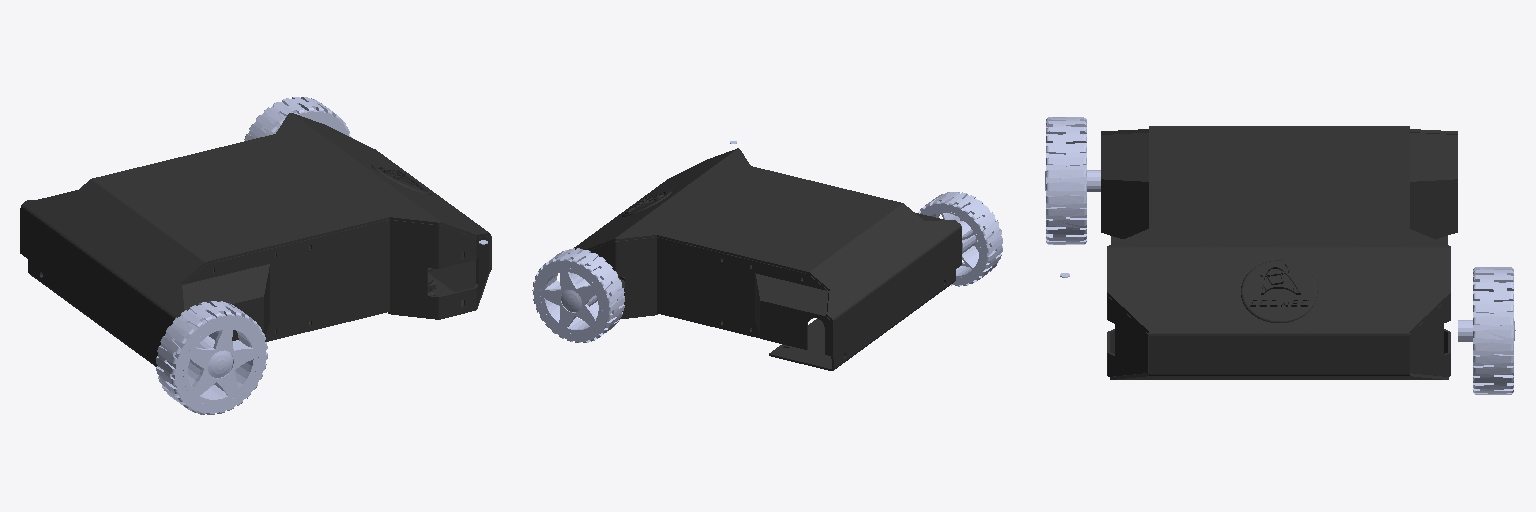
The robot description file, URDF, robot "neor_mini":
<?xml version="1.0" encoding="utf-8"?>
<!-- This URDF was automatically created by SolidWorks to URDF Exporter! Originally created by [author] ([email redacted]) 
     Commit Version: 1.5.1-0-g916b5db  Build Version: 1.5.7152.31018
     For more information, please see http://wiki.ros.org/sw_urdf_exporter -->
<robot name="neor_mini">

  <!-- Add Gazebo plugins -->
    <!-- Load ros_control plugin using the steer_bot_hardware_gazebo
    implementation of the hardware_interface::RobotHW -->

  <gazebo>
    <plugin name="gazebo_ros_control" filename="libgazebo_ros_control.so">
      <robotSimType>steer_bot_hardware_gazebo/SteerBotHardwareGazebo</robotSimType>
      <legacyModeNS>false</legacyModeNS>
    </plugin>
  </gazebo>

       <link name="base_link">
    <!-- avoid root link inertia warnings, annotation -->
    <inertial>
      <origin
        xyz="0.030649671440691 -1.79069899872708E-05 0.0558717976709459"
        rpy="0 0 0" />
      <mass
        value="1.72617713171385" />
      <inertia
        ixx="0.0107311274569357"
        ixy="-3.24164649120244E-08"
        ixz="0.00169188715816868"
        iyy="0.0198871551919603"
        iyz="2.40252669081509E-07"
        izz="0.0269841937242323" />
    </inertial>

    <visual>
      <origin xyz="0 0 0" rpy="0 0 0" />
      <geometry>
        <mesh filename="package://neor_mini/meshes/base_link.dae" />
      </geometry>
      <material name="">
      <color rgba="0.250980392156863 0.250980392156863 0.250980392156863 1" /> 
      </material> 
    </visual>
    <collision>
      <origin
        xyz="0 0 0"
        rpy="0 0 0" />
      <geometry>
        <mesh
          filename="package://neor_mini/meshes/base_link.STL" />
      </geometry>
    </collision>
  </link>
  <link
    name="rear_wheel_link">
    <inertial>
      <origin
        xyz="-8.88178419700125E-16 -2.05391259555654E-14 -0.00112500000001892"
        rpy="0 0 0" />
      <mass
        value="5.65486677646169E-05" />
      <inertia
        ixx="1.32005796313028E-10"
        ixy="-1.938704560671E-27"
        ixz="2.13770572261755E-26"
        iyy="1.32005796313028E-10"
        iyz="-7.60216295195271E-25"
        izz="2.03575203952622E-10" />
    </inertial>
    <visual>
      <origin
        xyz="0 0 0"
        rpy="0 0 0" />
      <geometry>
        <mesh
          filename="package://neor_mini/meshes/rear_wheel_link.STL" />
      </geometry>
      <material
        name="">
        <color
          rgba="0.274509803921569 1 0.247058823529412 1" />
      </material>
    </visual>
    <collision>
      <origin
        xyz="0 0 0"
        rpy="0 0 0" />
      <geometry>
        <mesh
          filename="package://neor_mini/meshes/rear_wheel_link.STL" />
      </geometry>
    </collision>
  </link>
  <joint
    name="rear_wheel_joint"
    type="continuous">
    <origin
      xyz="-0.181499999999597 0 0.0399999999987674"
      rpy="0 0 0" />
    <parent
      link="base_link" />
    <child
      link="rear_wheel_link" />
    <axis
      xyz="0 1 0" />
  </joint>
  <link
    name="left_rear_link">
    <inertial>
      <origin
        xyz="7.85229659072684E-11 -0.0196762547002777 4.85059770127805E-11"
        rpy="0 0 0" />
      <mass
        value="0.29556182905038" />
      <inertia
        ixx="0.000374087423652291"
        ixy="2.19336154342606E-13"
        ixz="-5.50404301757561E-12"
        iyy="0.000661017199375587"
        iyz="-5.10049385981967E-14"
        izz="0.000374087441459994" />
    </inertial>
    <visual>
      <origin
        xyz="0 0 0"
        rpy="0 0 0" />
      <geometry>
        <mesh
          filename="package://neor_mini/meshes/left_rear_link.STL" />
      </geometry>
      <material
        name="">
        <color
          rgba="0.792156862745098 0.819607843137255 0.933333333333333 1" />
      </material>
    </visual>
    <collision>
      <origin
        xyz="0 0 0"
        rpy="0 0 0" />
      <geometry>
        <mesh
          filename="package://neor_mini/meshes/left_rear_link.STL" />
      </geometry>
    </collision>
  </link>
  <joint
    name="left_rear_joint"
    type="continuous">
    <origin
      xyz="-0.181499999999595 0.228542434993694 0.0399999999991634"
      rpy="0 0 0" />
    <parent
      link="base_link" />
    <child
      link="left_rear_link" />
    <axis
      xyz="0 1 0" />
    <limit
      lower="-3.14"
      upper="3.14"
      effort="0"
      velocity="0" />
  </joint>
  <link
    name="right_rear_link">
    <inertial>
      <origin
        xyz="7.8521189550429E-11 0.0196762545376323 3.35983463273237E-11"
        rpy="0 0 0" />
      <mass
        value="0.295561829050389" />
      <inertia
        ixx="0.000374087423652306"
        ixy="-2.1933774523493E-13"
        ixz="5.50404145624456E-12"
        iyy="0.000661017199375601"
        iyz="-5.10073974604221E-14"
        izz="0.000374087441459995" />
    </inertial>
    <visual>
      <origin
        xyz="0 0 0"
        rpy="0 0 0" />
      <geometry>
        <mesh
          filename="package://neor_mini/meshes/right_rear_link.STL" />
      </geometry>
      <material
        name="">
        <color
          rgba="0.792156862745098 0.819607843137255 0.933333333333333 1" />
      </material>
    </visual>
    <collision>
      <origin
        xyz="0 0 0"
        rpy="0 0 0" />
      <geometry>
        <mesh
          filename="package://neor_mini/meshes/right_rear_link.STL" />
      </geometry>
    </collision>
  </link>
  <joint
    name="right_rear_joint"
    type="continuous">
    <origin
      xyz="-0.181499999999595 -0.228542434994426 0.0399999999991584"
      rpy="0 0 0" />
    <parent
      link="base_link" />
    <child
      link="right_rear_link" />
    <axis
      xyz="0 1 0" />
    <limit
      lower="-3.14"
      upper="3.14"
      effort="0"
      velocity="0" />
  </joint>
  <link
    name="front_steer_link">
    <inertial>
      <origin
        xyz="-2.1316282072803E-14 3.67778030252452E-11 -0.00112486602459905"
        rpy="0 0 0" />
      <mass
        value="5.65486677646163E-05" />
      <inertia
        ixx="1.32005796313026E-10"
        ixy="1.16322273640277E-26"
        ixz="1.20446157864484E-28"
        iyy="1.32005796313026E-10"
        iyz="-8.66481261175625E-27"
        izz="2.03575203952619E-10" />
    </inertial>
    <visual>
      <origin
        xyz="0 0 0"
        rpy="0 0 0" />
      <geometry>
        <mesh
          filename="package://neor_mini/meshes/front_steer_link.STL" />
      </geometry>
      <material
        name="">
        <color
          rgba="0.274509803921569 1 0.247058823529412 1" />
      </material>
    </visual>
    <collision>
      <origin
        xyz="0 0 0"
        rpy="0 0 0" />
      <geometry>
        <mesh
          filename="package://neor_mini/meshes/front_steer_link.STL" />
      </geometry>
    </collision>
  </link>
  <joint
    name="front_steer_joint"
    type="revolute">
    <origin
      xyz="0.172883370897628 0 -0.00376561854722868"
      rpy="0 0 0" />
    <parent
      link="base_link" />
    <child
      link="front_steer_link" />
    <axis
      xyz="0 0 1" />
    <limit
      lower="-0.72"
      upper="0.72"
      effort="0"
      velocity="0" />
  </joint>

<!-- In order to fit ackermann simulation plugins's request,amend the front steer link and it's joint -->
 <link name="front_steer_right_link">
 <!--  remember add inertial  label,if not,and it can't visual on gazebo-->
 <inertial>  
      <origin xyz="9.44636555644252E-08 -0.000295273745285485 -8.13046296954667E-11" rpy="0 0 0" />
      <mass value="0.296315811300368" /> 
      <inertia
        ixx="0.000374692013709393"
        ixy="-9.17172260383823E-08"
        ixz="-2.43187512356516E-12"
        iyy="0.000661029987747155"
        iyz="1.9736939507106E-13"
        izz="0.000374691963930348" />
    </inertial>
   <visual>
     <geometry>
       <cylinder length="0.001" radius="0.005"/>
     </geometry>
     <origin rpy="0 0 0"  xyz="0 0 0" />
     <material name=""> 
          <color rgba="0.792156862745098 0.819607843137255 0.933333333333333 1" />
     </material>
   </visual>
   <collision>
      <origin
        xyz="0 0 0"
        rpy="0 0 0" />
      <geometry>
       <cylinder length="0.001" radius="0.005"/>
      </geometry>
    </collision>
 </link>
 <joint name="front_steer_right_joint" type="revolute">
    <origin rpy="0 0 0"  xyz="0.17 -0.21 0.102" />
    <parent link="base_link" />
    <child link="front_steer_right_link" />
    <axis xyz="0 0 1" />     <!-- charge steer direction default is 0 0 1-->
    <limit lower="-0.69" upper="0.69" effort="0" velocity="0" />
 </joint>
<!-- ************************************************************************************* -->

  <link
    name="front_right_wheel_link">
    <inertial>
      <origin
        xyz="9.44636555644252E-08 -0.000295273745285485 -8.13046296954667E-11"
        rpy="0 0 0" />
      <mass
        value="0.296315811300368" />
      <inertia
        ixx="0.000374692013709393"
        ixy="-9.17172260383823E-08"
        ixz="-2.43187512356516E-12"
        iyy="0.000661029987747155"
        iyz="1.9736939507106E-13"
        izz="0.000374691963930348" />
    </inertial>
    <visual>
      <origin
        xyz="0 0 0"
        rpy="0 0 0" />
      <geometry>
        <mesh
          filename="package://neor_mini/meshes/front_right_wheel_link.STL" />
      </geometry>
      <material
        name="">
        <color
          rgba="0.792156862745098 0.819607843137255 0.933333333333333 1" />
      </material>
    </visual>
    <collision>
      <origin
        xyz="0 0 0"
        rpy="0 0 0" />
      <geometry>
        <mesh
          filename="package://neor_mini/meshes/front_right_wheel_link.STL" />
      </geometry>
    </collision>
  </link>
  <joint name="front_right_wheel_joint" type="continuous">
    <origin xyz="0 0 -0.06" rpy="0 0 0" />   <!-- amend the position between steer_right_link and front right wheel-->
    <parent link="front_steer_right_link" />
    <child  link="front_right_wheel_link" />
    <axis xyz="0 1 0" />
  </joint>

<!-- In order to fit ackermann simulation plugins's request,amend the front steer link and it's joint -->
 <link name="front_steer_left_link">
 <!--  remember add inertial  label,if not,and it can't visual on gazebo-->
    <inertial> 
      <origin xyz="9.44636555644252E-08 -0.000295273745285485 -8.13046296954667E-11" rpy="0 0 0" />
      <mass value="0.296315811300368" /> 
      <inertia
        ixx="0.000374692013709393"
        ixy="-9.17172260383823E-08"
        ixz="-2.43187512356516E-12"
        iyy="0.000661029987747155"
        iyz="1.9736939507106E-13"
        izz="0.000374691963930348" />
    </inertial>
   <visual>
     <geometry>
       <cylinder length="0.001" radius="0.005"/>
     </geometry>
     <origin rpy="0 0 0"  xyz="0 0 0" />
   </visual>
    <collision>
      <origin xyz="0 0 0" rpy="0 0 0" />
      <geometry>
       <cylinder length="0.001" radius="0.005"/>
      </geometry>
    </collision>
 </link>
 <joint name="front_steer_left_joint" type="revolute">
    <origin rpy="0 0 0"  xyz="0.17 0.21 0.102" />
    <parent link="base_link" />
    <child link="front_steer_left_link" />
    <axis xyz="0 0 1" />  <!-- charge steer direction default is 0 0 1-->
    <limit lower="-0.69" upper="0.69" effort="0" velocity="0" />
 </joint>
<!-- ************************************************************************************* -->

  <link
    name="front_left_wheel_link">
    <inertial>
      <origin
        xyz="-3.99413835339146E-11 0.000295273997845347 1.08602016268833E-10"
        rpy="0 0 0" />
      <mass
        value="0.296315811293944" />
      <inertia
        ixx="0.00037469197851121"
        ixy="-1.84493877596723E-13"
        ixz="-9.50756757097929E-12"
        iyy="0.00066103001709398"
        iyz="-1.17866882205563E-13"
        izz="0.000374691969713977" />
    </inertial>
    <visual>
      <origin
        xyz="0 0 0"
        rpy="0 0 0" />
      <geometry>
        <mesh
          filename="package://neor_mini/meshes/front_left_wheel_link.STL" />
      </geometry>
      <material
        name="">
        <color
          rgba="0.792156862745098 0.819607843137255 0.933333333333333 1" />
      </material>
    </visual>
    <collision>
      <origin
        xyz="0 0 0"
        rpy="0 0 0" />
      <geometry>
        <mesh
          filename="package://neor_mini/meshes/front_left_wheel_link.STL" />
      </geometry>
    </collision>
  </link>
  <joint name="front_left_wheel_joint" type="continuous">
    <origin xyz="0 0 -0.06" rpy="0 0 0" />      <!-- amend the position between steer_left_link and front left wheel-->
    <parent link="front_steer_left_link" />
    <child link="front_left_wheel_link" />
    <axis xyz="0 1 0" /> 
  </joint>


</robot>

--- What the picture shows (computed from the rendered views, not written in the file) ---
3 views of the same robot in one strip: view 1: azimuth 30°, elevation 25°; view 2: azimuth 150°, elevation 25°; view 3: azimuth 270°, elevation 25° (orthographic).
Robot: neor_mini — 9 links, 8 joints (3 revolute, 5 continuous); root link base_link; default pose: every joint at zero.
Visible links, largest first — view 1: base_link, right_rear_link, front_left_wheel_link; view 2: base_link, front_left_wheel_link, right_rear_link; view 3: base_link, front_left_wheel_link, right_rear_link.
Boxes of the visible links, box(x1,y1,x2,y2) form: base_link: box(20, 113, 491, 366); right_rear_link: box(156, 301, 267, 414); front_left_wheel_link: box(244, 97, 351, 140); base_link: box(574, 148, 961, 370); front_left_wheel_link: box(532, 248, 624, 342); right_rear_link: box(918, 192, 1002, 286); base_link: box(1101, 126, 1457, 379); front_left_wheel_link: box(1458, 267, 1515, 394); right_rear_link: box(1045, 117, 1100, 244).
Bounding box of the posed robot: 0.4765 × 0.4616 × 0.14 m (x, y, z).
5 mesh visuals loaded from 7 distinct referenced files (4 binary STL, 1 Collada DAE); not drawn: 2 (reference not matched to a file when rendering).